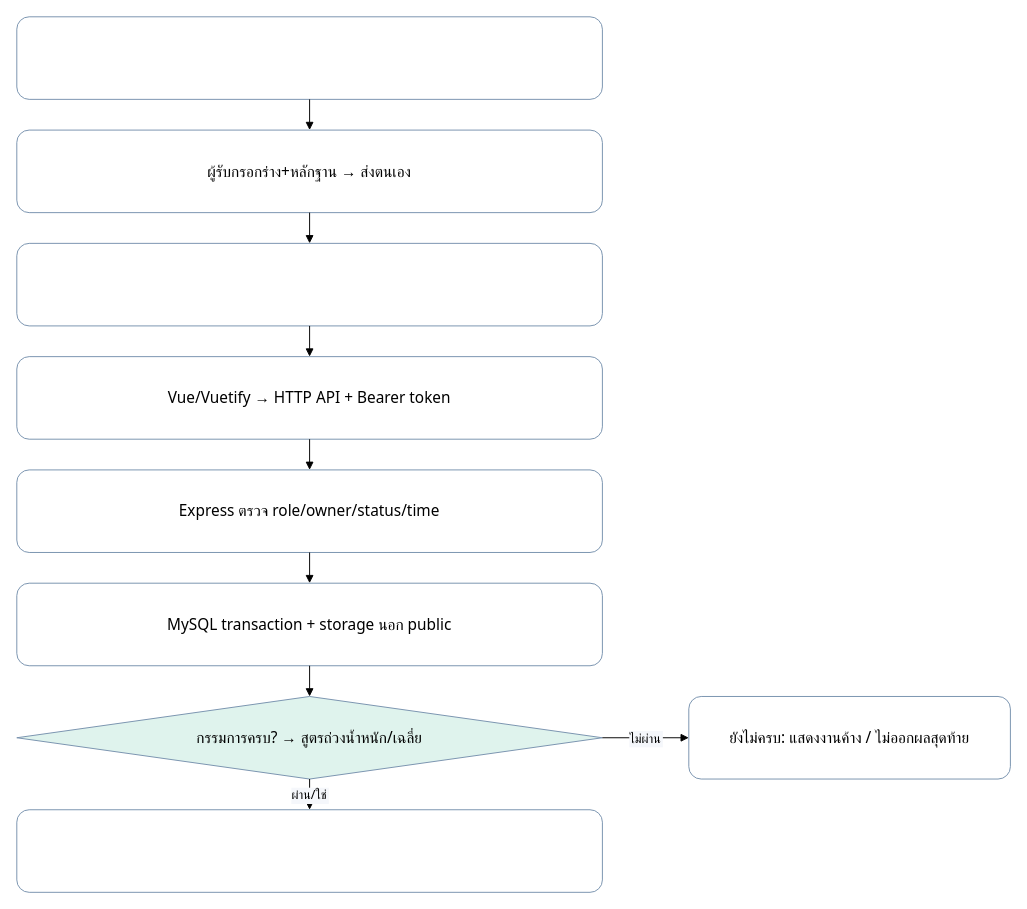
Some shapes in this 1027 by 909 pixel diagram are drawn without their labels. The box of each missing label's shape, as (x1, y1, x2, y2) in pixels:
Admin publish → ผู้รับดูผลและ PDF: (16, 809, 602, 892)
กรรมการแต่ละคนบันทึก+ลงนาม → ส่ง: (16, 242, 602, 326)
ฝ่ายบุคลากรตั้งรอบ/เกณฑ์/มอบหมาย: (16, 16, 602, 99)
